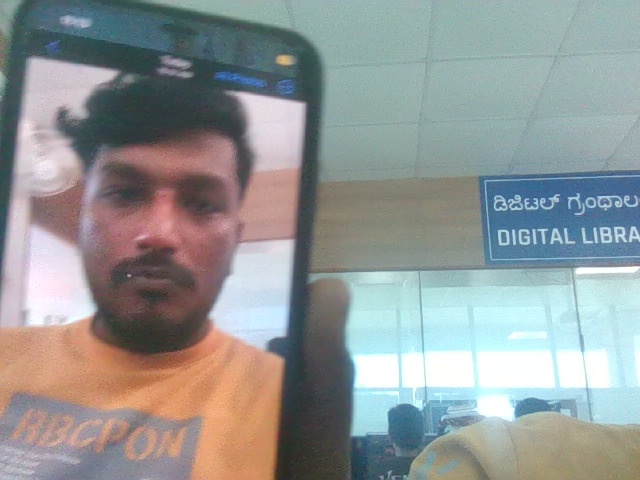fake: (52, 37, 275, 353)
